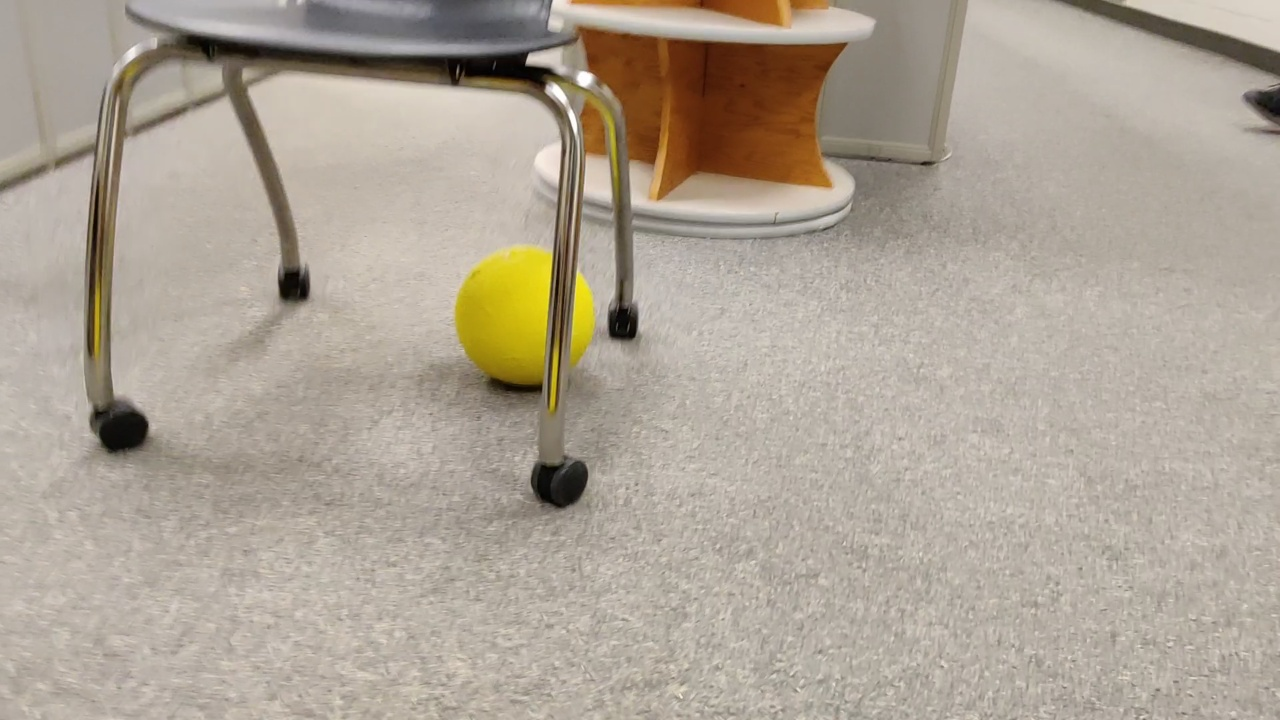Ball: (454, 248, 605, 396)
